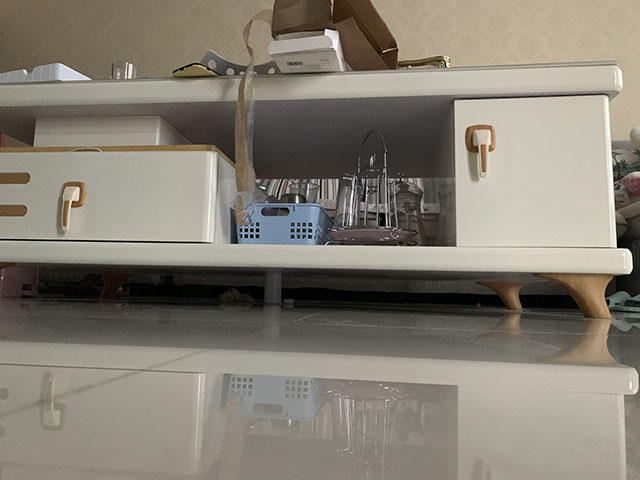table: (1, 59, 636, 321)
